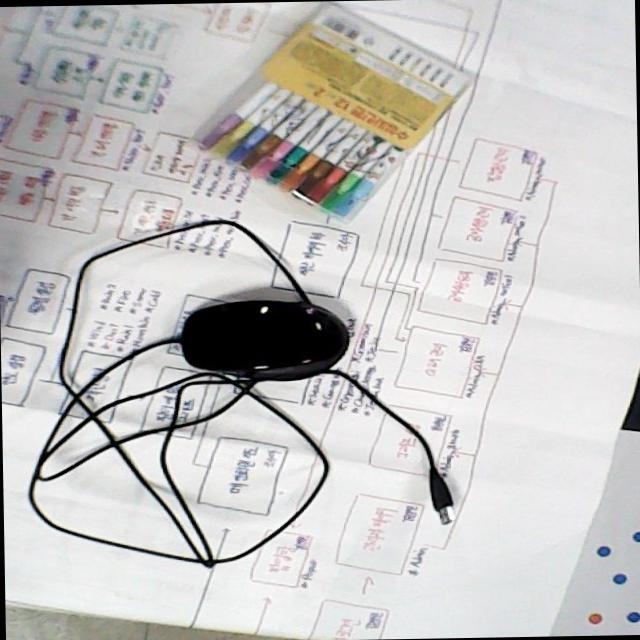mouse: (171, 289, 362, 386)
signpen: (191, 1, 491, 234)
